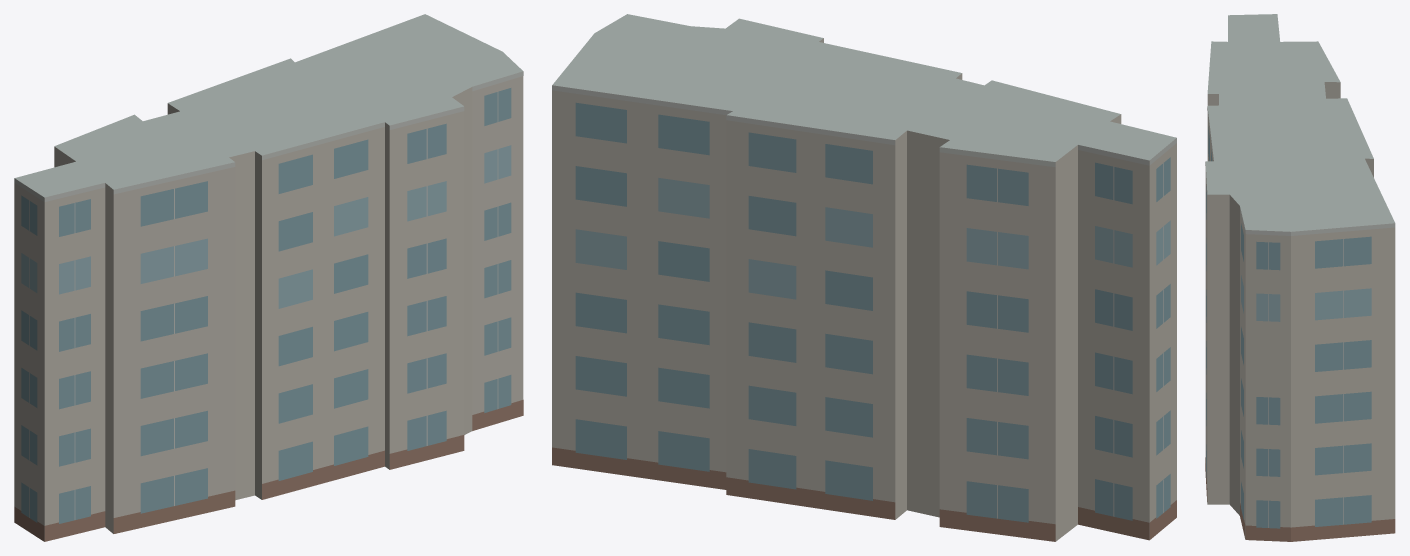
Rendered from survey-upis-32648437.glb.
3 renders of one model, left to right at view 1: azimuth 30°, elevation 25°; view 2: azimuth 150°, elevation 25°; view 3: azimuth 270°, elevation 25°, orthographic. The views are drawn at different scales.
Parts seen in each view (by area): view 1: survey-upis-32648437.tmp; view 2: survey-upis-32648437.tmp; view 3: survey-upis-32648437.tmp.
Boxes of the visible parts, x1,y1,x2,y2 form: survey-upis-32648437.tmp: (14, 14, 523, 541); survey-upis-32648437.tmp: (552, 14, 1176, 541); survey-upis-32648437.tmp: (1205, 14, 1395, 541).
Bounding box in the file's own units: 27.05 × 17.95 × 9.97.
